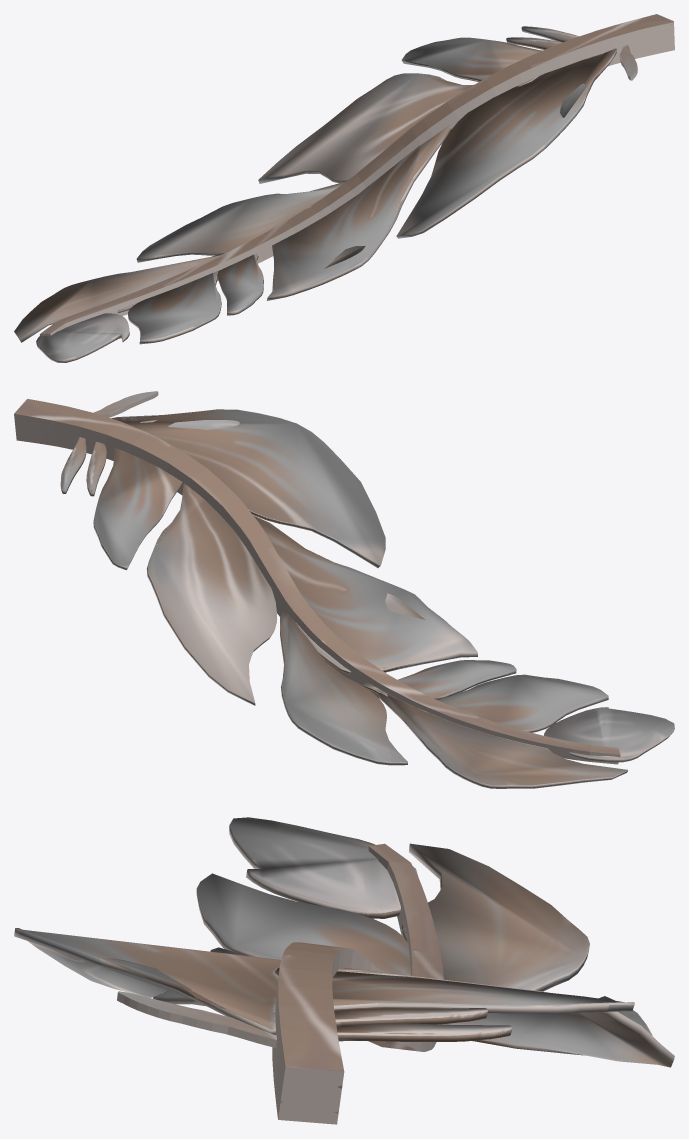
File: feather4.fbx
3 renders of one model, top to bottom at view 1: azimuth 30°, elevation 25°; view 2: azimuth 150°, elevation 25°; view 3: azimuth 270°, elevation 25°, orthographic. The views are drawn at different scales.
Parts seen in each view (by area): view 1: Cylinder; view 2: Cylinder; view 3: Cylinder.
Part boxes in pixels (x1=…): Cylinder: x1=14, y1=14, x2=674, y2=362; Cylinder: x1=14, y1=391, x2=674, y2=788; Cylinder: x1=14, y1=817, x2=674, y2=1124.
Size of the model in its own units: 1576 by 475 by 734.
